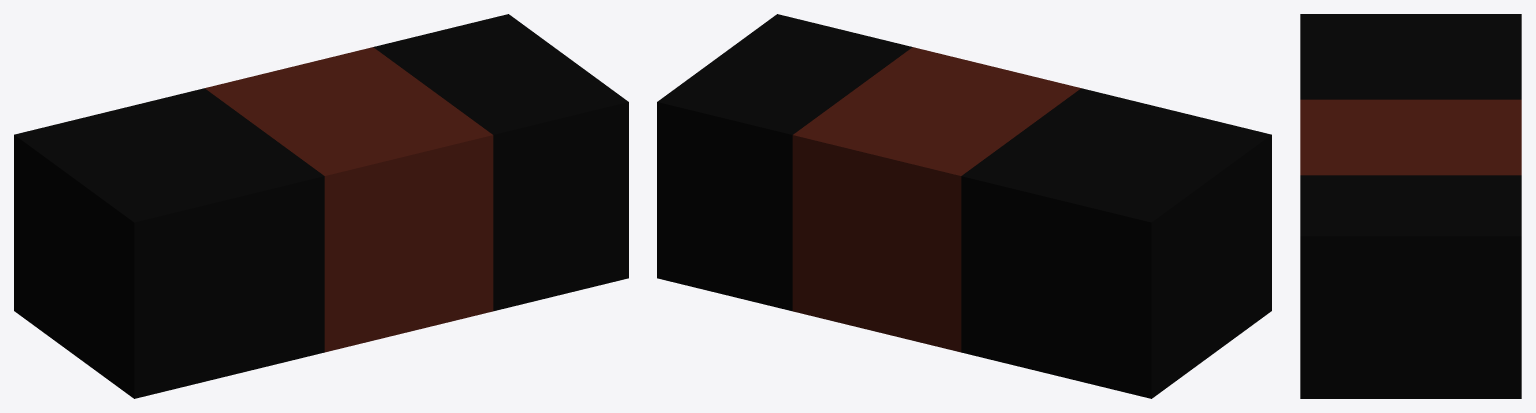
File: woolybear.obj
3 renders of one model, left to right at view 1: azimuth 30°, elevation 25°; view 2: azimuth 150°, elevation 25°; view 3: azimuth 270°, elevation 25°, orthographic. The views are drawn at different scales.
Visible parts, largest first — view 1: Cube; view 2: Cube; view 3: Cube.
Part boxes in pixels (left/top/right/bottom): Cube: left=14, top=14, right=628, bottom=398; Cube: left=657, top=14, right=1271, bottom=398; Cube: left=1300, top=14, right=1521, bottom=398.
Size of the model in its own units: 2.56 by 0.8711 by 1.08.
